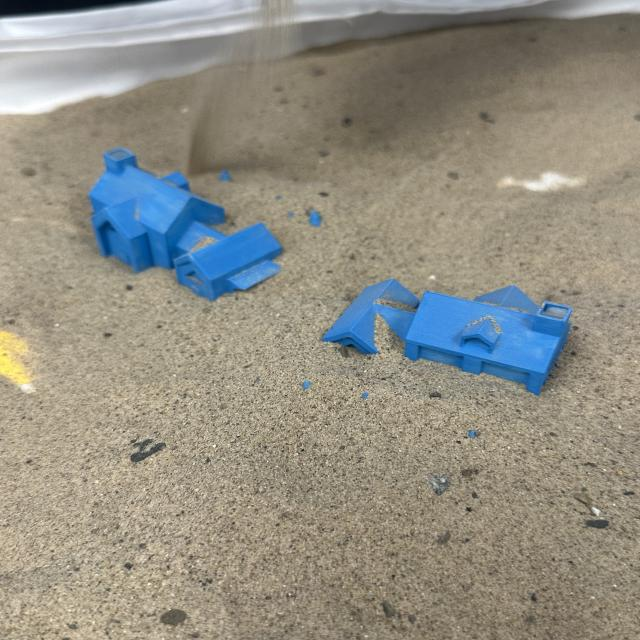house: (295, 265, 576, 447), (88, 138, 330, 301)
